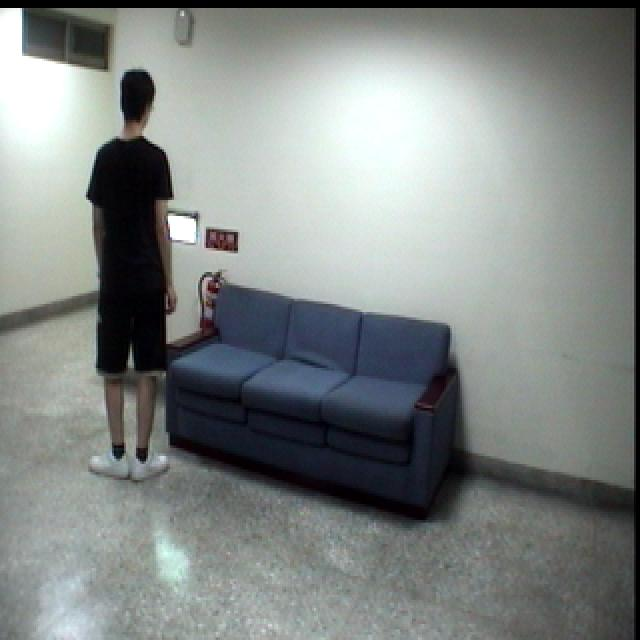stand: (78, 62, 185, 495)
